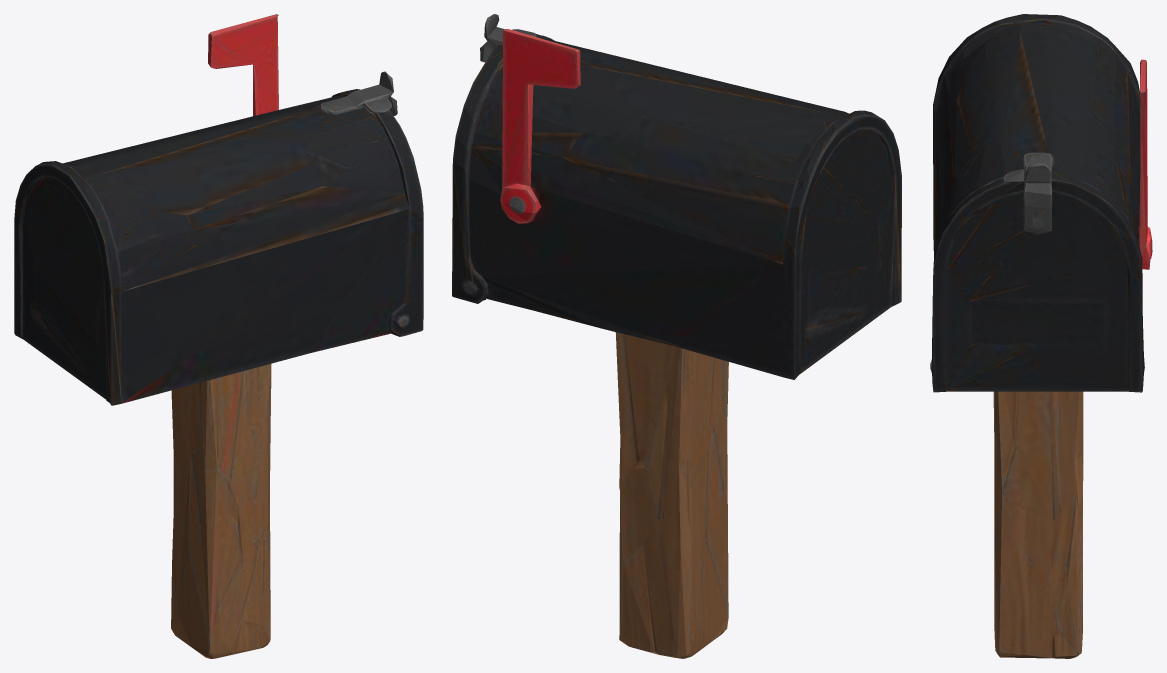
Rendered from mailbox.glb.
3 views of the same model, side by side, from view 1: azimuth 30°, elevation 25°; view 2: azimuth 150°, elevation 25°; view 3: azimuth 270°, elevation 25° (orthographic). The views are drawn at different scales.
Parts seen in each view (by area): view 1: Mesh_0; view 2: Mesh_0; view 3: Mesh_0.
Part boxes in pixels (x1=…): Mesh_0: x1=14, y1=14, x2=423, y2=658; Mesh_0: x1=452, y1=14, x2=901, y2=658; Mesh_0: x1=930, y1=14, x2=1152, y2=658.
Bounding box in the file's own units: 1.16 × 1.9 × 0.6273.
Materials: 1 (1 with a texture image).
